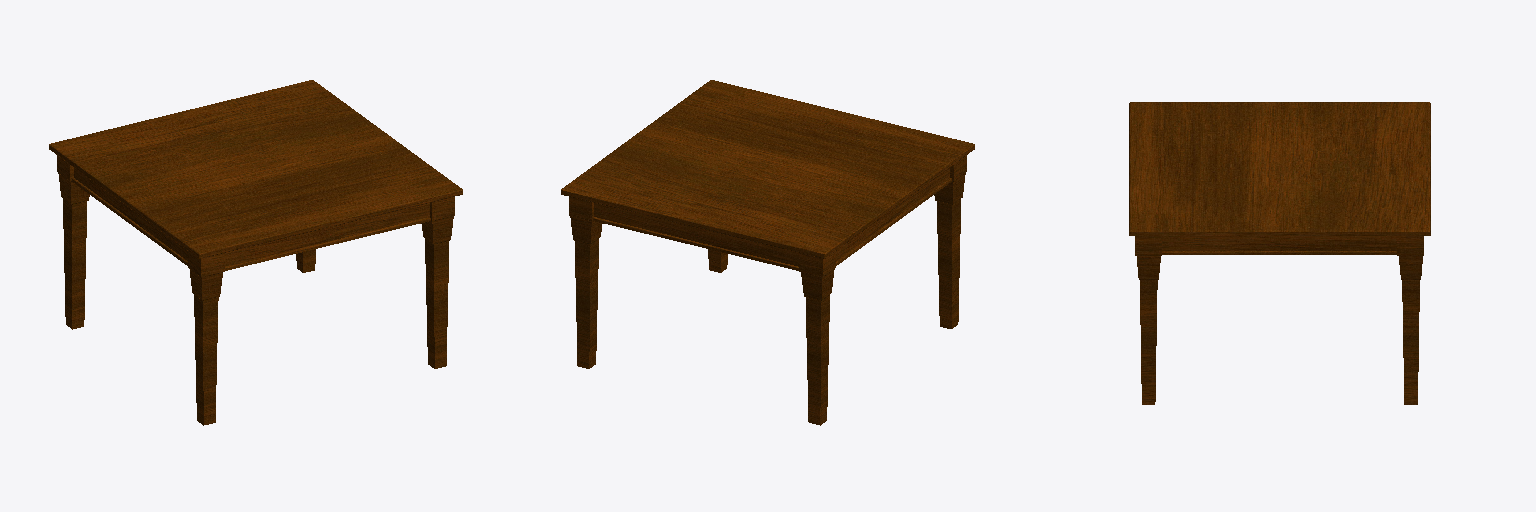
3 renders of one model, left to right at view 1: azimuth 30°, elevation 25°; view 2: azimuth 150°, elevation 25°; view 3: azimuth 270°, elevation 25°, orthographic.
Visible parts, largest first — view 1: Table; view 2: Table; view 3: Table.
Part boxes in pixels (bbox=[...]): Table: bbox=[49, 80, 462, 425]; Table: bbox=[561, 80, 974, 425]; Table: bbox=[1129, 102, 1430, 404].
Size of the model in its own units: 149 by 96 by 146.
Materials: 1 (1 with a texture image).